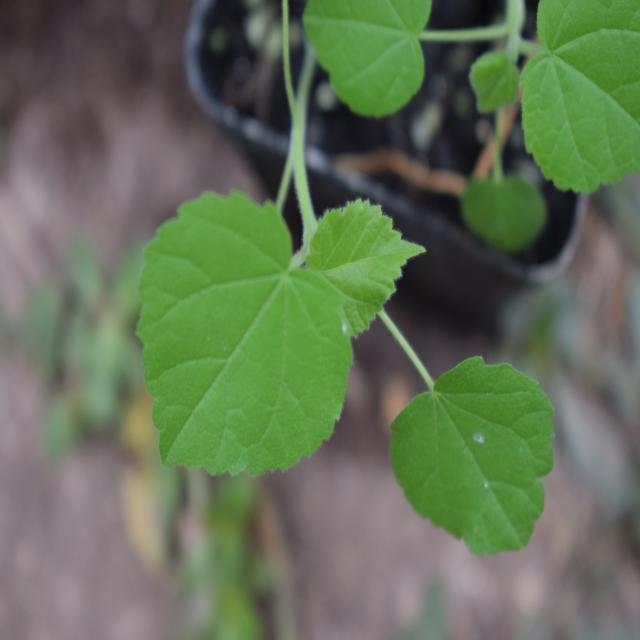abutilon theophrasti: (86, 146, 556, 562)
